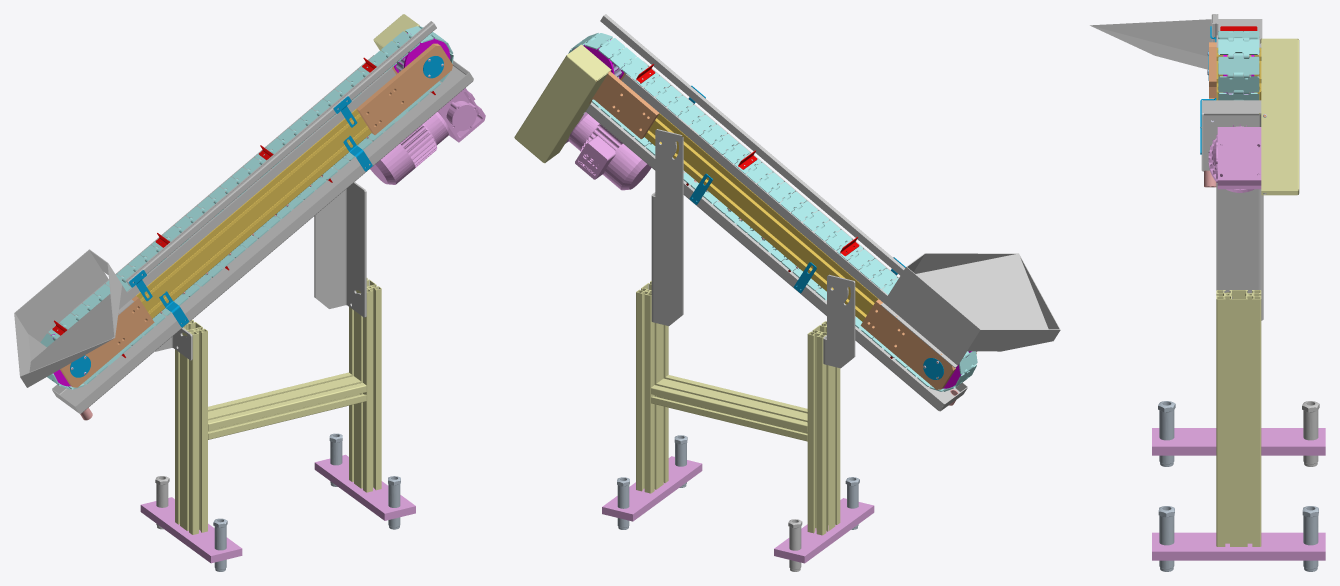
File: Transportband_1.fbx
The picture shows the model from 3 angles, left to right: view 1: azimuth 30°, elevation 25°; view 2: azimuth 150°, elevation 25°; view 3: azimuth 270°, elevation 25°; orthographic projection. The views are drawn at different scales.
Parts seen in each view (by area): view 1: transpo174, transpo153, transpor24, transpor16, transpo169, transpor22, transpor18, transpo146, transpo168, transpo151, transpo172, transpo129 (+4 smaller); view 2: transpo153, transpor24, transpor16, transpo169, transpor22, transpo173, transpor18, transpo174, transpo168, transpo151, transpo146, transpo130 (+4 smaller); view 3: transpor22, transpo173, transpo169, transpor15, transpo153, transpor14, transpo146, transpo174, transpo111, transpor20, transpor17, transpor21 (+7 smaller).
Boxes of the visible parts, x1=… form: transpo174: x1=52, y1=60, x2=473, y2=413; transpo153: x1=14, y1=249, x2=134, y2=387; transpor24: x1=136, y1=109, x2=371, y2=318; transpor16: x1=175, y1=319, x2=207, y2=534; transpo169: x1=314, y1=182, x2=366, y2=317; transpor22: x1=349, y1=278, x2=381, y2=492; transpor18: x1=208, y1=372, x2=366, y2=439; transpo146: x1=370, y1=88, x2=485, y2=184; transpo168: x1=73, y1=55, x2=395, y2=315; transpo151: x1=125, y1=21, x2=436, y2=287; transpo172: x1=356, y1=43, x2=452, y2=134; transpo129: x1=60, y1=296, x2=154, y2=387; transpo153: x1=881, y1=253, x2=1060, y2=367; transpor24: x1=644, y1=113, x2=878, y2=321; transpor16: x1=807, y1=321, x2=840, y2=535; transpo169: x1=651, y1=129, x2=683, y2=325; transpor22: x1=636, y1=281, x2=668, y2=493; transpo173: x1=514, y1=44, x2=611, y2=163; transpor18: x1=651, y1=375, x2=807, y2=441; transpo174: x1=585, y1=102, x2=967, y2=411; transpo168: x1=622, y1=61, x2=898, y2=302; transpo151: x1=600, y1=14, x2=904, y2=275; transpo146: x1=565, y1=112, x2=651, y2=190; transpo130: x1=860, y1=299, x2=955, y2=389; transpor22: x1=1216, y1=290, x2=1261, y2=546; transpo173: x1=1260, y1=38, x2=1299, y2=195; transpo169: x1=1216, y1=183, x2=1263, y2=320; transpor15: x1=1152, y1=532, x2=1325, y2=560; transpo153: x1=1090, y1=19, x2=1262, y2=69; transpor14: x1=1152, y1=428, x2=1325, y2=455; transpo146: x1=1208, y1=124, x2=1261, y2=192; transpo174: x1=1201, y1=100, x2=1261, y2=171; transpo111: x1=1218, y1=53, x2=1259, y2=78; transpor20: x1=1158, y1=401, x2=1175, y2=466; transpor17: x1=1302, y1=401, x2=1319, y2=466; transpor21: x1=1302, y1=506, x2=1318, y2=571.
Size of the model in its own units: 142 by 131 by 47.62.
